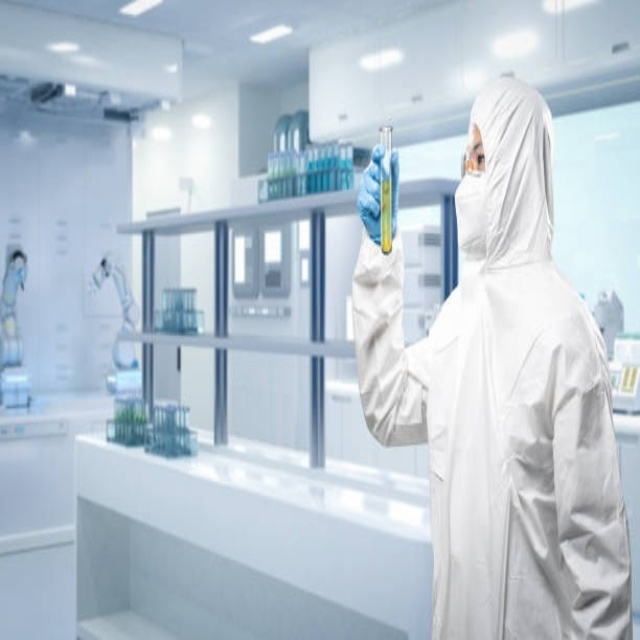Gafas: (461, 146, 484, 179)
Guantes: (357, 146, 400, 248)
Mascara: (454, 167, 491, 259), (16, 265, 26, 289)
